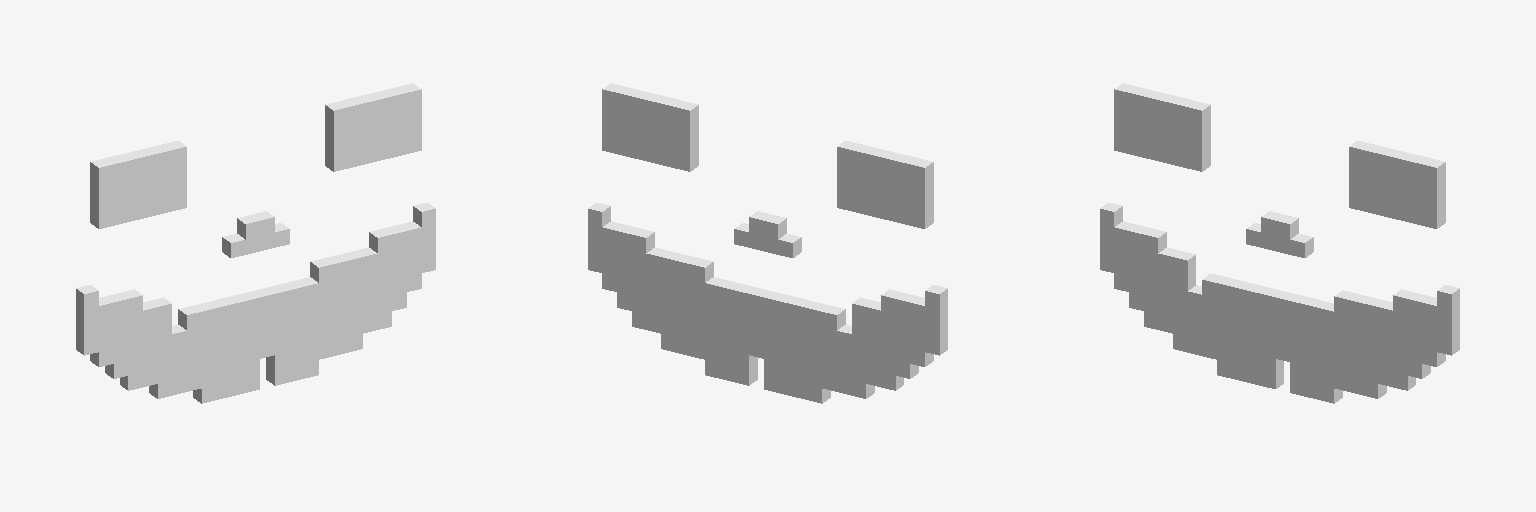
Rendered from face_idle.obj.
The picture shows the model from 3 angles: view 1: azimuth 30°, elevation 25°; view 2: azimuth 150°, elevation 25°; view 3: azimuth 330°, elevation 25°; orthographic projection.
Visible parts, largest first — view 1: object 1; view 2: object 1; view 3: object 1.
Boxes of the visible parts, x1=… form: object 1: x1=76, y1=83, x2=435, y2=403; object 1: x1=588, y1=83, x2=947, y2=403; object 1: x1=1100, y1=83, x2=1459, y2=403.
Size of the model in its own units: 2.4 by 1.7 by 0.1.